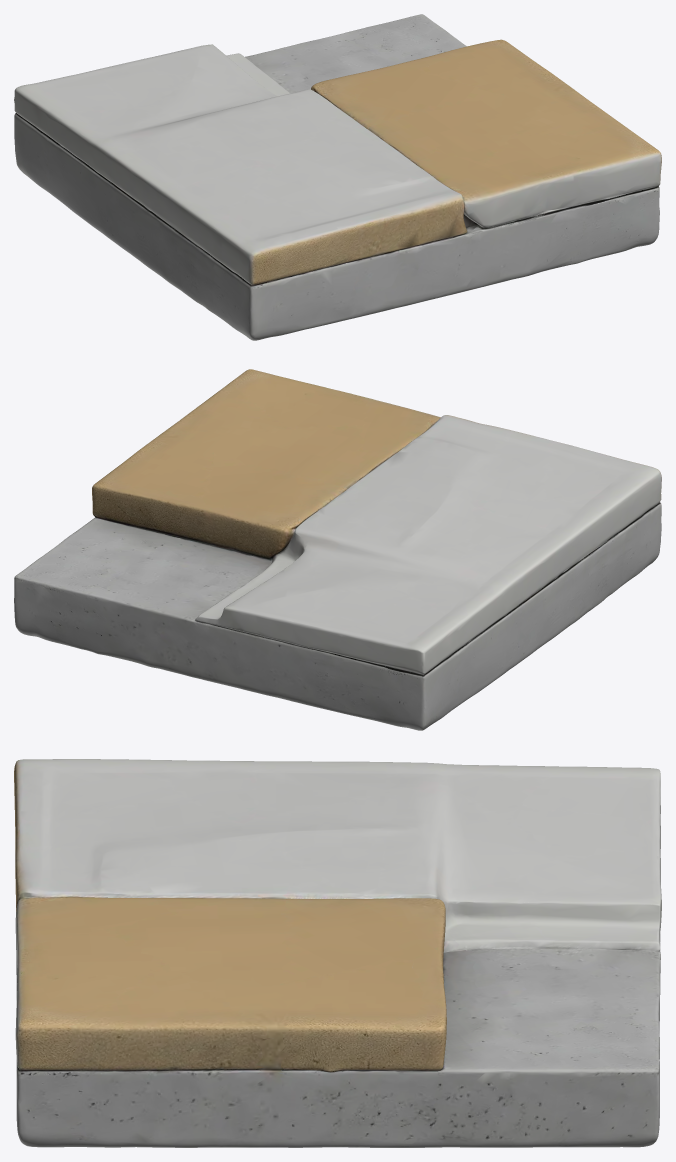
Rendered from screed-section.glb.
3 renders of one model, top to bottom at view 1: azimuth 30°, elevation 25°; view 2: azimuth 150°, elevation 25°; view 3: azimuth 270°, elevation 25°, orthographic. The views are drawn at different scales.
Parts seen in each view (by area): view 1: tripo_node_57163f0c-4b7e-487d-8499-6ac32680c0d5; view 2: tripo_node_57163f0c-4b7e-487d-8499-6ac32680c0d5; view 3: tripo_node_57163f0c-4b7e-487d-8499-6ac32680c0d5.
Part boxes in pixels (box(x1,y1,x2,y2)): tripo_node_57163f0c-4b7e-487d-8499-6ac32680c0d5: box(14, 14, 661, 340); tripo_node_57163f0c-4b7e-487d-8499-6ac32680c0d5: box(14, 369, 661, 730); tripo_node_57163f0c-4b7e-487d-8499-6ac32680c0d5: box(14, 759, 661, 1147).
Size of the model in its own units: 0.9961 by 0.225 by 1.
Materials: 1 (1 with a texture image).
